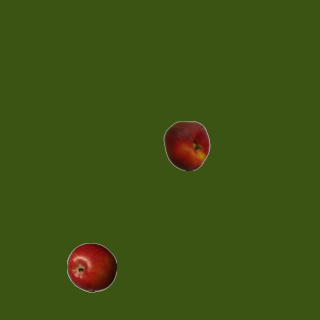Apple Braeburn: (66, 242, 116, 292)
Nectarine Flat: (161, 120, 211, 170)
